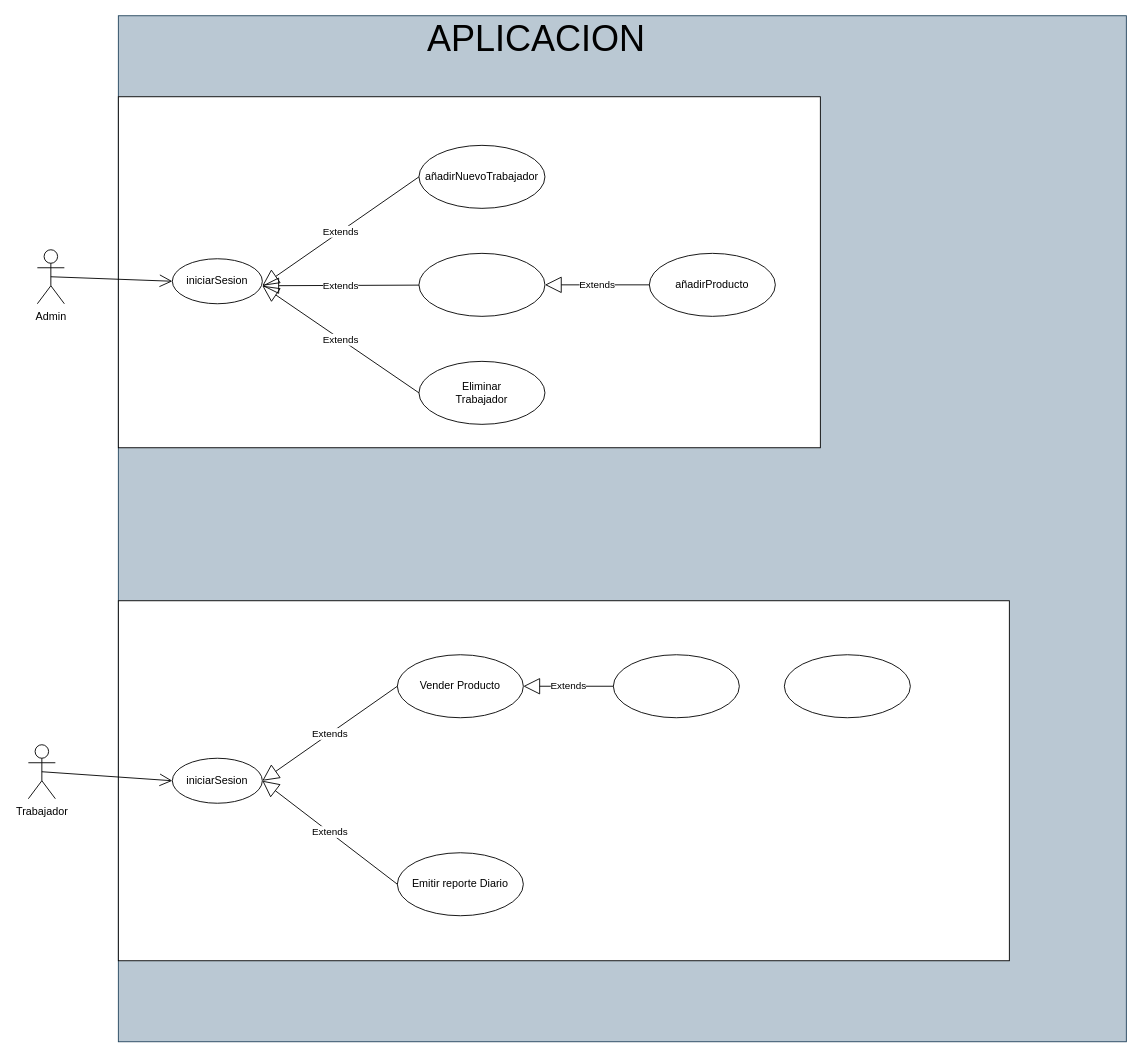
The diagram is 1142 pixels wide and 1058 high, and some of its shapes have lost their labels. Here are the shapes that lost their labels. From the top down, the centre of each, then its label:
pixel 481 284: Actualizar Producto
pixel 675 686: Emitir Factura
pixel 846 686: Ingresar Datos Cliente
